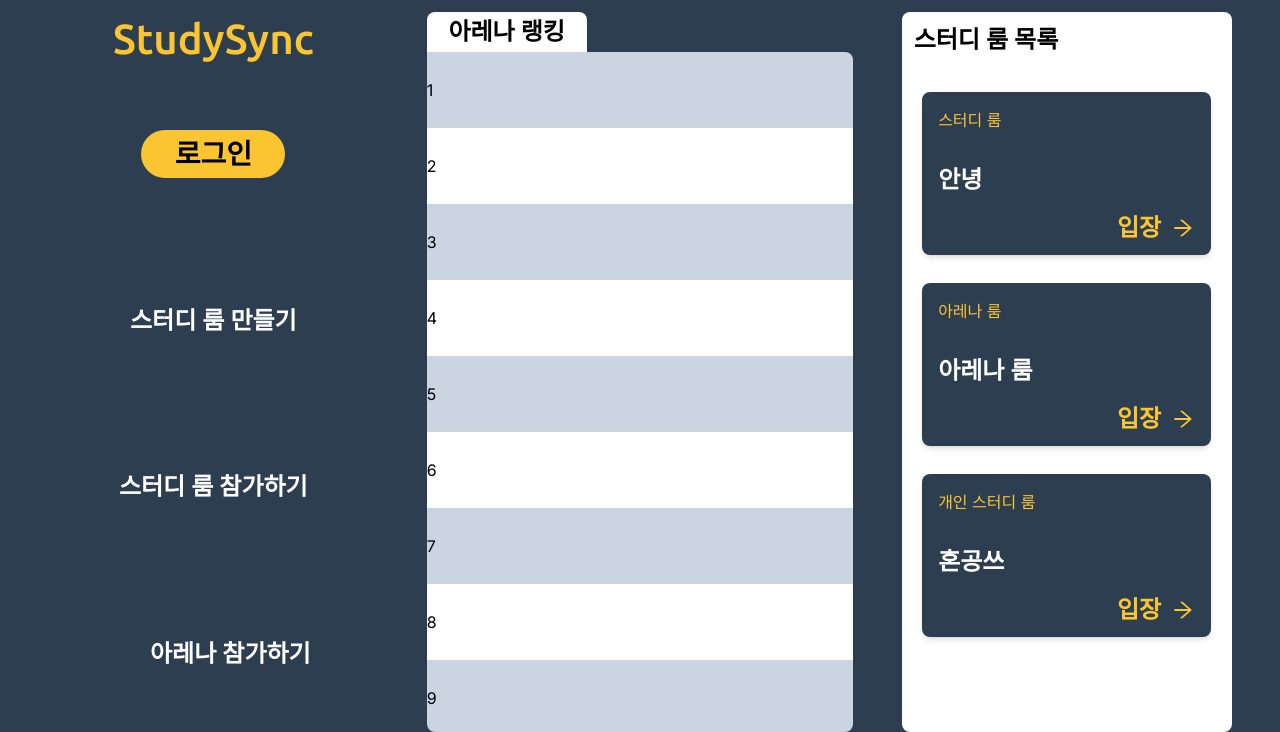
Test: 로그인/회원가입 테스트 › 로그인 버튼을 클릭하면 로그인 모달이 열리고 닫기를 누르면 닫힌다.
Click the button "로그인" at (213, 154), box [141,130,285,178]
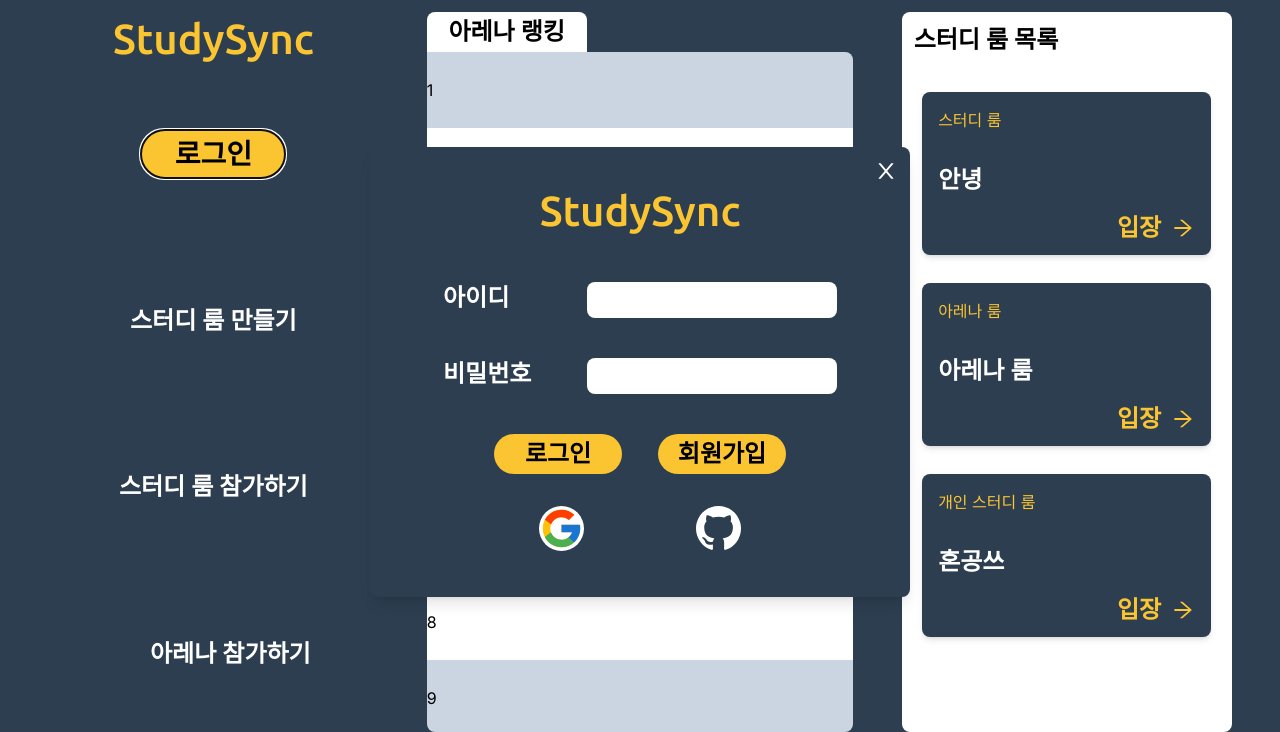
Expected: the element named "close" is shown
Click the element named "close" at (886, 171), box [874,159,898,183]
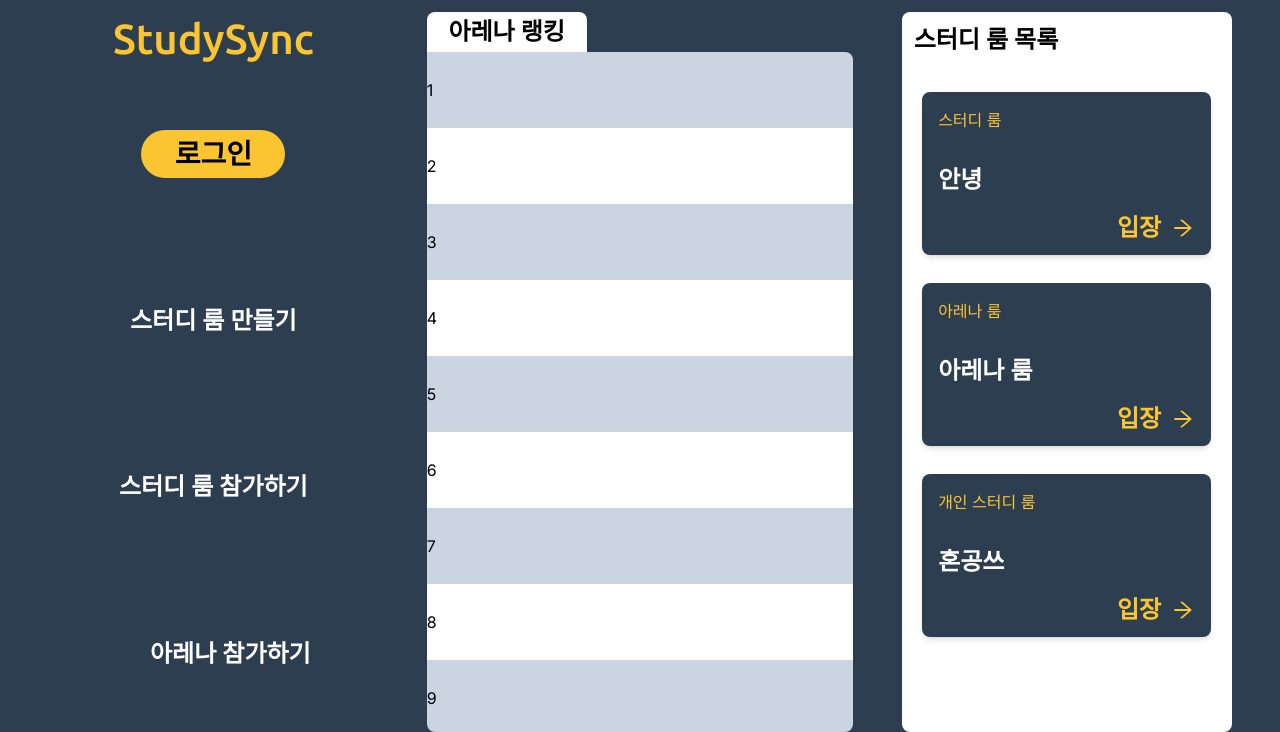
Expected: the text "close" is gone
